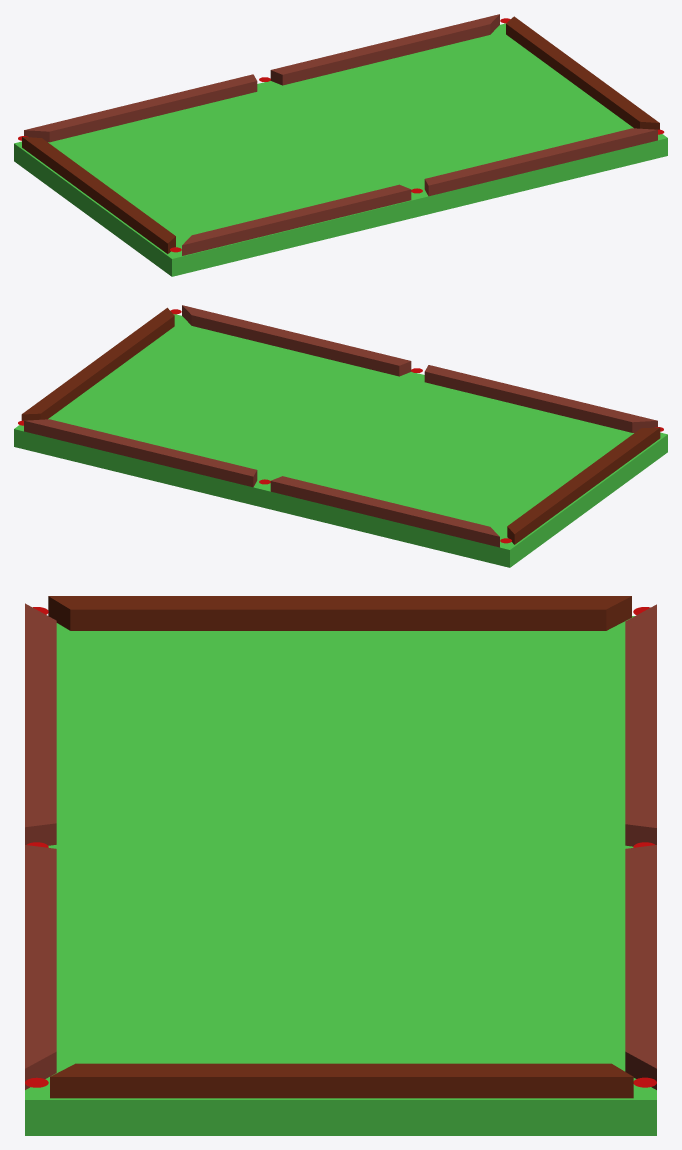
The model's file is biliyado.fbx.
The picture shows the model from 3 angles, top to bottom: view 1: azimuth 30°, elevation 25°; view 2: azimuth 150°, elevation 25°; view 3: azimuth 270°, elevation 25°; orthographic projection. The views are drawn at different scales.
Parts seen in each view (by area): view 1: 台, 周りのやつ.000, 周りのやつ.001, 周りのやつ.002, 周りのやつ.003, 周りのやつ.004, 周りのやつ.005; view 2: 台, 周りのやつ.002, 周りのやつ.000, 周りのやつ.003, 周りのやつ.001, 周りのやつ.004, 周りのやつ.005; view 3: 台, 周りのやつ.005, 周りのやつ.004, 周りのやつ.001, 周りのやつ.000, 周りのやつ.002, 周りのやつ.003.
Boxes of the visible parts, x1,y1,x2,y2 form: 台: (14,23,667,276); 周りのやつ.000: (424,128,657,196); 周りのやつ.001: (182,184,411,255); 周りのやつ.002: (270,14,499,85); 周りのやつ.003: (24,74,257,142); 周りのやつ.004: (22,137,175,253); 周りのやつ.005: (506,16,659,129); 台: (14,314,667,567); 周りのやつ.002: (24,419,257,487); 周りのやつ.000: (182,305,411,376); 周りのやつ.003: (270,476,499,547); 周りのやつ.001: (424,365,657,432); 周りのやつ.004: (507,427,660,544); 周りのやつ.005: (21,307,174,420); 台: (25,616,656,1135); 周りのやつ.005: (50,1063,633,1098); 周りのやつ.004: (48,596,631,630); 周りのやつ.001: (25,603,56,845); 周りのやつ.000: (25,845,56,1089); 周りのやつ.002: (625,845,656,1089); 周りのやつ.003: (625,604,656,846).
Size of the model in its own units: 290 by 16.24 by 160.
